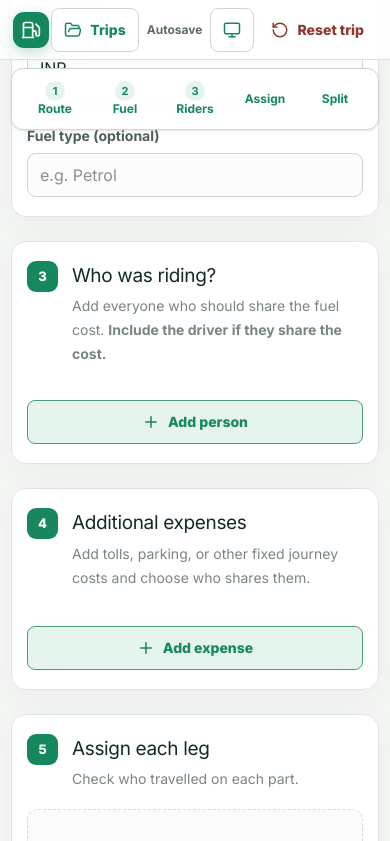
Test: App › shows persistent labels, driver guidance, and searchable currency descriptions
The image size is (390, 841).
(page scrolled)
Click the button "Add person" at (195, 422), box [27,400,363,444]
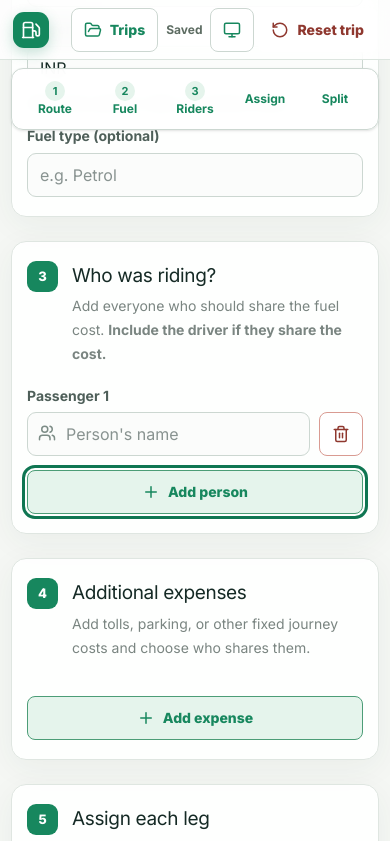
Expected: the text "Include the driver if they share the cost." is shown, [72,321,342,362]
Expected: the text "Passenger 1" is shown, [27,387,109,404]
